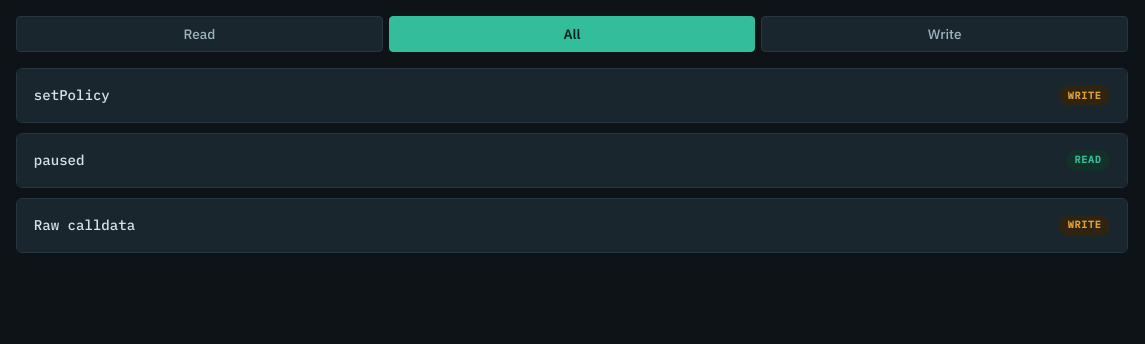
Test case: an untouched argument-less function shows no Clear
Click the text "paused": (59, 160) left=34, top=151, right=84, bottom=169
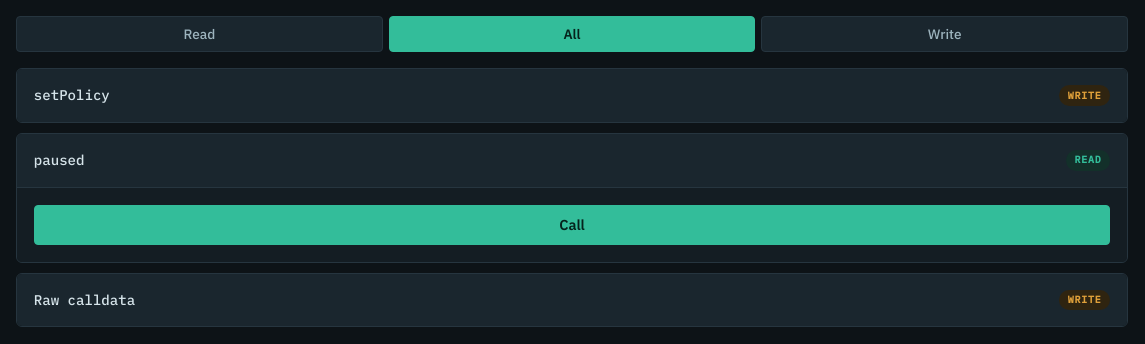
Expected: the button "Call" is shown, left=34, top=205, right=1110, bottom=245
